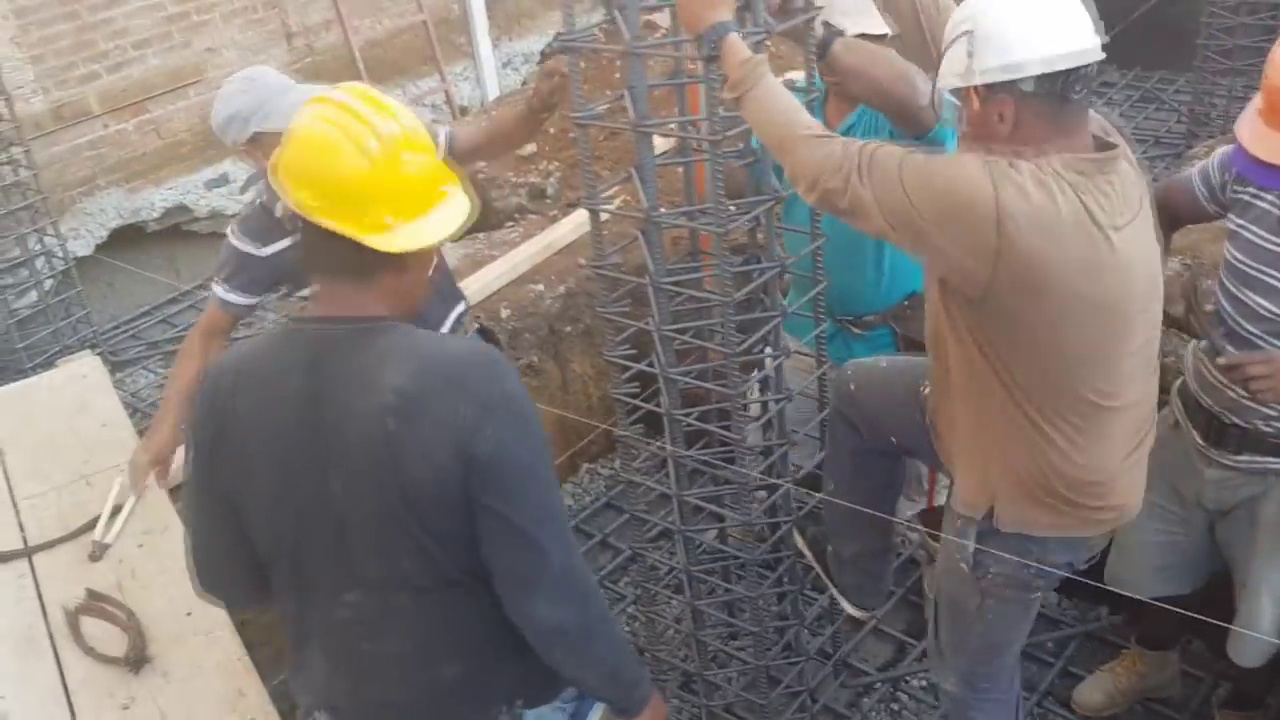helmet: (261, 80, 469, 258), (941, 8, 1103, 100), (1233, 36, 1280, 171)
helmet-off: (192, 61, 348, 190), (801, 5, 890, 139)
helmet-on: (258, 78, 465, 330), (937, 3, 1113, 163)
person: (151, 82, 618, 720), (735, 11, 1155, 697), (1082, 44, 1280, 716), (739, 3, 950, 548)
